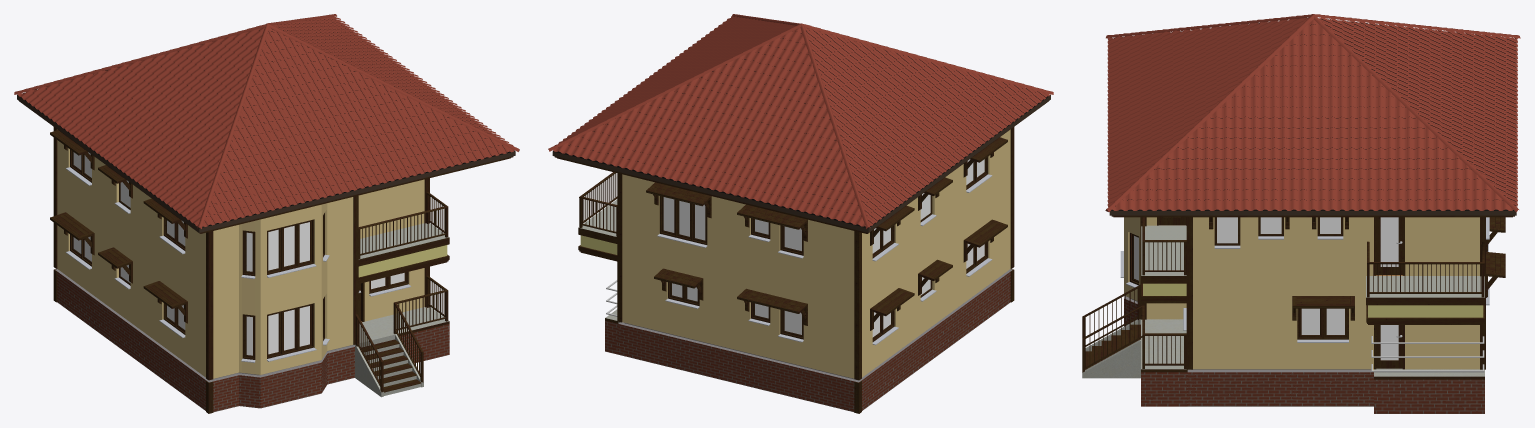
Rendered from House.fbx.
3 views of the same model, side by side, from view 1: azimuth 30°, elevation 25°; view 2: azimuth 150°, elevation 25°; view 3: azimuth 270°, elevation 25° (orthographic). The views are drawn at different scales.
Parts seen in each view (by area): view 1: Plane.019, walls.001, walls, roof, walls.003, Cube.012, Plane.015, Window.019, Window, Cube.021, Stairs.003, Plane.018 (+8 smaller); view 2: Plane.019, walls.001, walls, roof, walls.003, Window.013, Cube.026, Plane.018, Window.018, Window.006, Window.008, Window.016 (+4 smaller); view 3: Plane.019, walls.001, walls, roof, Plane.016, Plane.015, Plane.018, Cube.012, walls.003, Cube.026, Window.009, Door.006 (+9 smaller).
Boxes of the visible parts, box(x1,y1,x2,y2) form: Plane.019: box(14, 14, 519, 228); walls.001: box(55, 185, 424, 412); walls: box(53, 127, 449, 413); roof: box(17, 19, 515, 233); walls.003: box(50, 130, 187, 323); Cube.012: box(355, 275, 448, 392); Plane.015: box(359, 307, 449, 362); Window.019: box(267, 219, 316, 277); Window: box(267, 303, 316, 361); Cube.021: box(358, 192, 448, 258); Stairs.003: box(361, 339, 421, 395); Plane.018: box(358, 245, 449, 283); Plane.019: box(548, 14, 1053, 228); walls.001: box(618, 185, 1012, 411); walls: box(578, 127, 1014, 413); roof: box(552, 30, 1050, 233); walls.003: box(646, 137, 1007, 330); Window.013: box(657, 196, 707, 247); Cube.026: box(579, 172, 617, 236); Plane.018: box(578, 235, 617, 261); Window.018: box(778, 225, 803, 258); Window.006: box(778, 309, 803, 342); Window.008: box(665, 282, 699, 308); Window.016: box(872, 225, 898, 261); Plane.019: box(1105, 14, 1520, 212); walls.001: box(1124, 217, 1479, 406); walls: box(1140, 217, 1485, 369); roof: box(1109, 19, 1516, 217); Plane.016: box(1374, 369, 1484, 413); Plane.015: box(1141, 319, 1187, 406); Plane.018: box(1141, 283, 1484, 324); Cube.012: box(1082, 285, 1186, 372); walls.003: box(1209, 217, 1505, 320); Cube.026: box(1367, 241, 1484, 297); Window.009: box(1297, 308, 1348, 342); Door.006: box(1376, 217, 1402, 274).
Size of the model in its own units: 1210 by 1074 by 1275.
